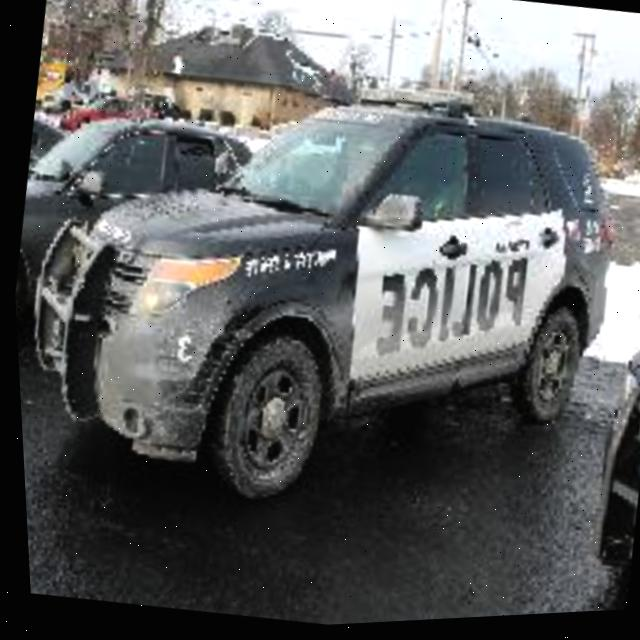emergency: (2, 32, 640, 558)
